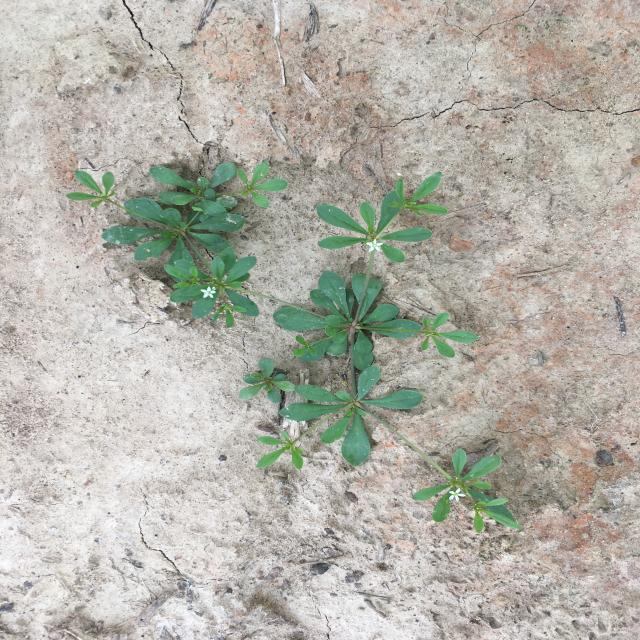Carpetweed: (66, 162, 522, 533)
